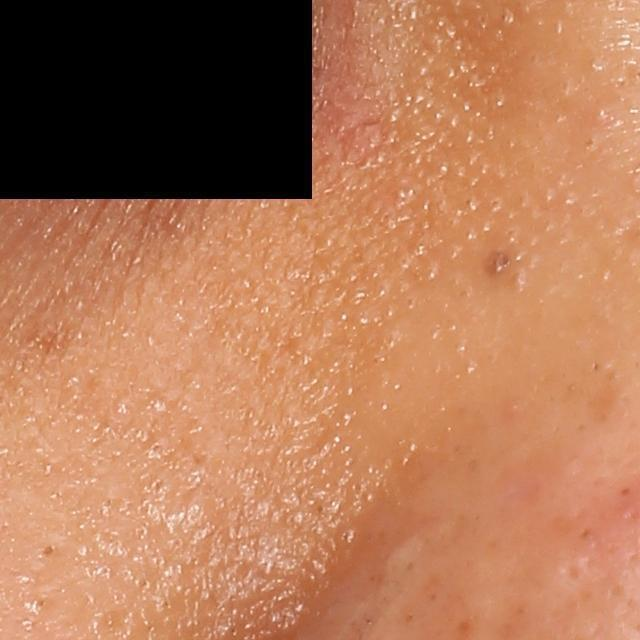comedo: (41, 541, 57, 560)
melasma: (11, 323, 81, 364)
nevus: (483, 250, 512, 277)
